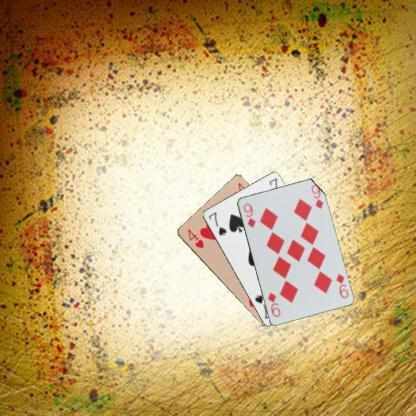4h: (184, 226, 204, 249)
7s: (206, 209, 228, 236)
9d: (240, 200, 257, 229), (334, 270, 350, 300)
